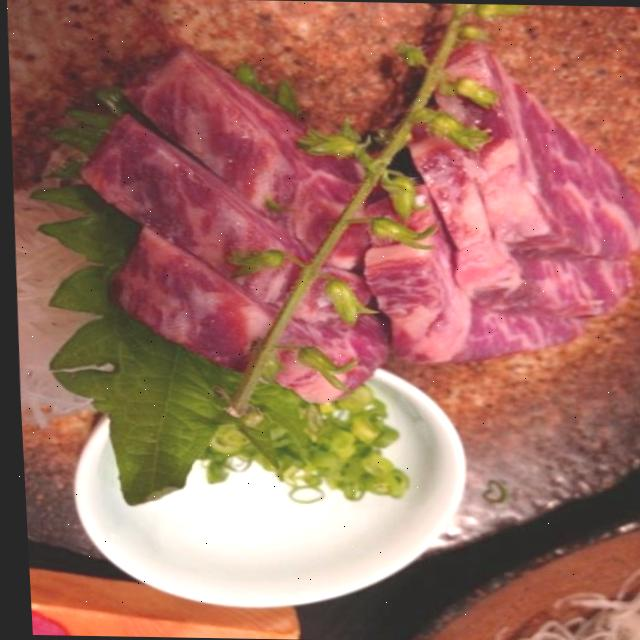刺身生食: (1, 14, 640, 618)
